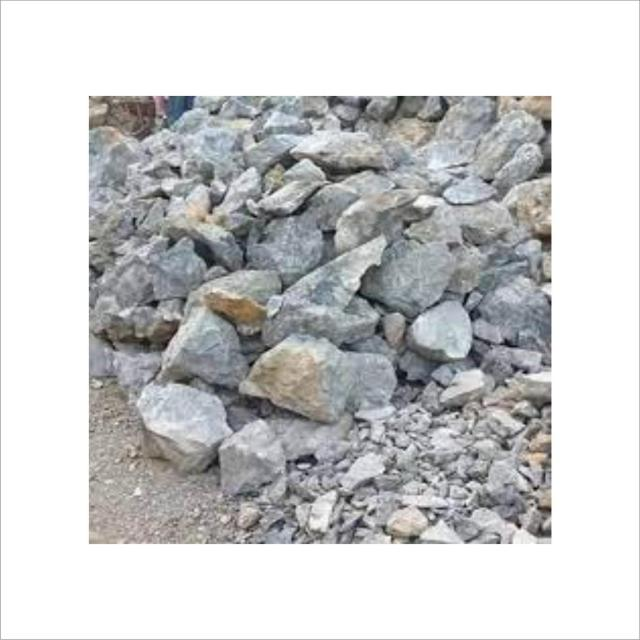Pecahan Agregat: (278, 116, 498, 187), (214, 428, 388, 514), (253, 328, 411, 405), (387, 293, 522, 378), (125, 376, 229, 460), (108, 172, 209, 252), (392, 207, 476, 280), (169, 302, 243, 384), (278, 227, 355, 305), (232, 158, 328, 215), (215, 105, 278, 149), (514, 236, 568, 287)
